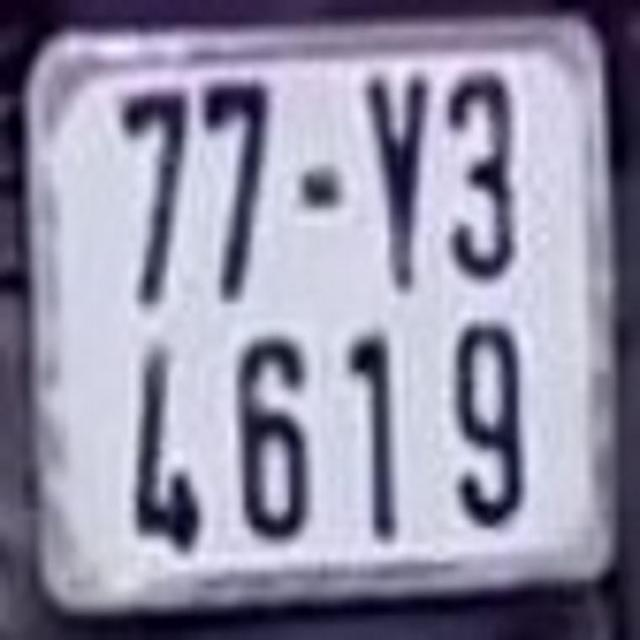1: (349, 327, 396, 540)
3: (448, 78, 513, 270)
4: (135, 352, 196, 546)
6: (240, 330, 308, 536)
7: (203, 88, 269, 298), (126, 84, 186, 300)
9: (455, 324, 526, 534)
Y: (367, 74, 434, 296)
